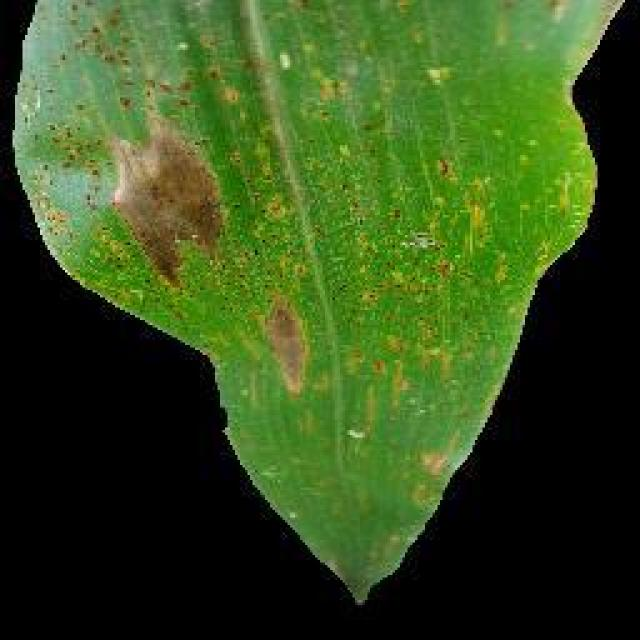Corn Common Rust: (18, 53, 532, 457)
